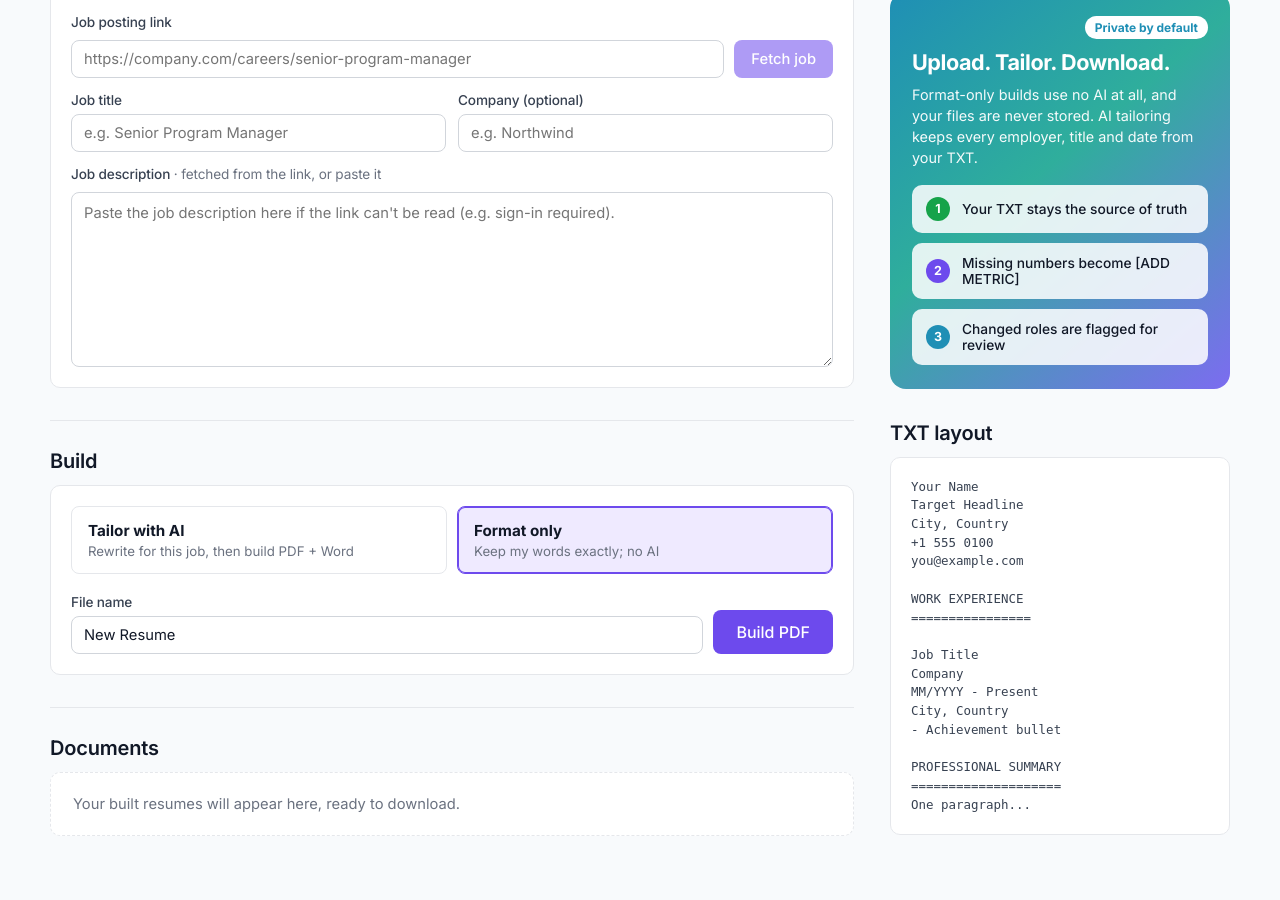
Scenario: StudioDashboard › uploads a TXT and builds a format-only PDF
Earlier steps of the test are not shown.
(page scrolled)
Click the button with test id "build-button" at (773, 632), box [713,610,833,654]
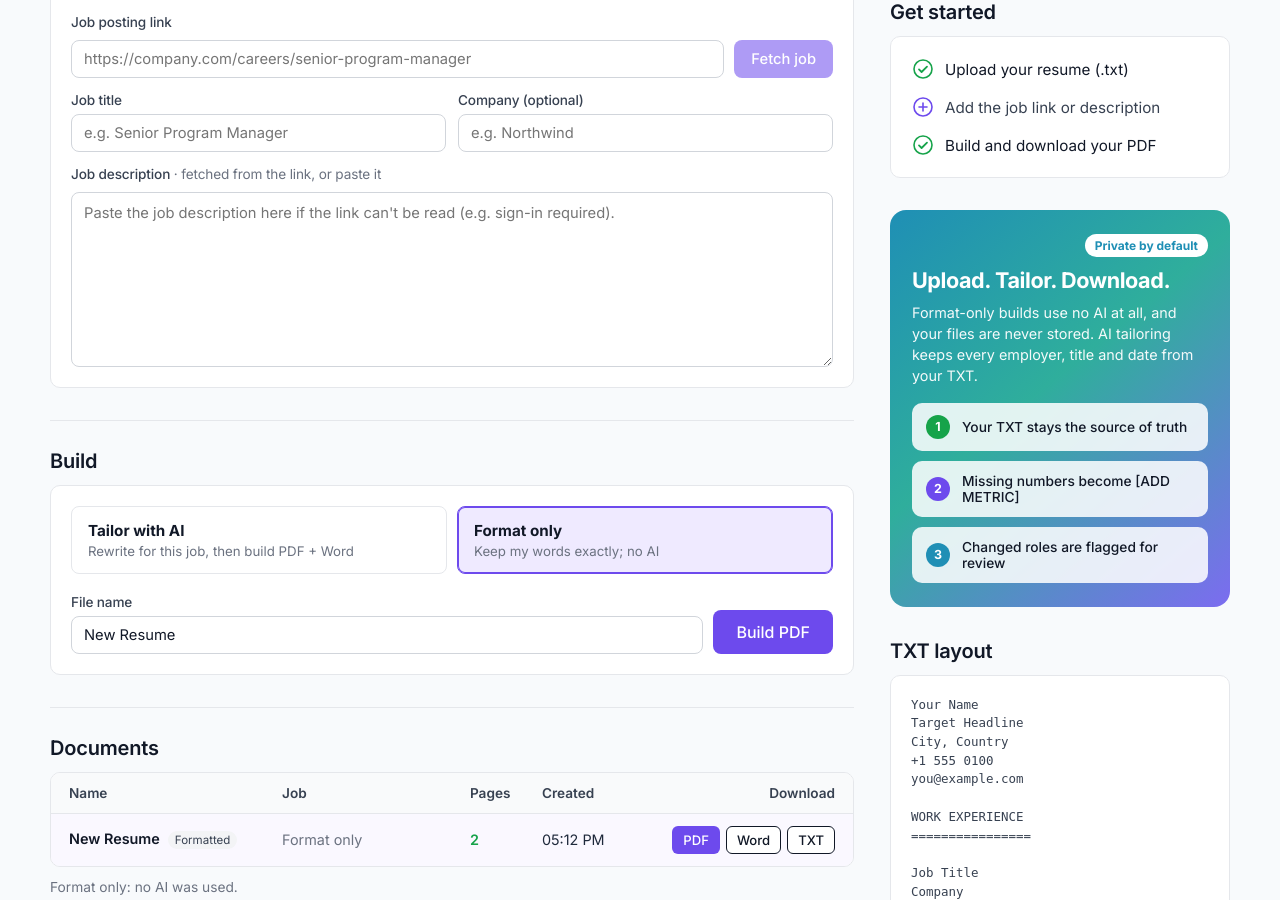
Result: the row with test id "doc-row" that starts with "New Resume" is shown at [51,812,853,866]
Result: the button "New Resume" is shown at [69,830,160,847]
Result: the text "Format only: no AI was used." is shown at [50,878,238,894]
